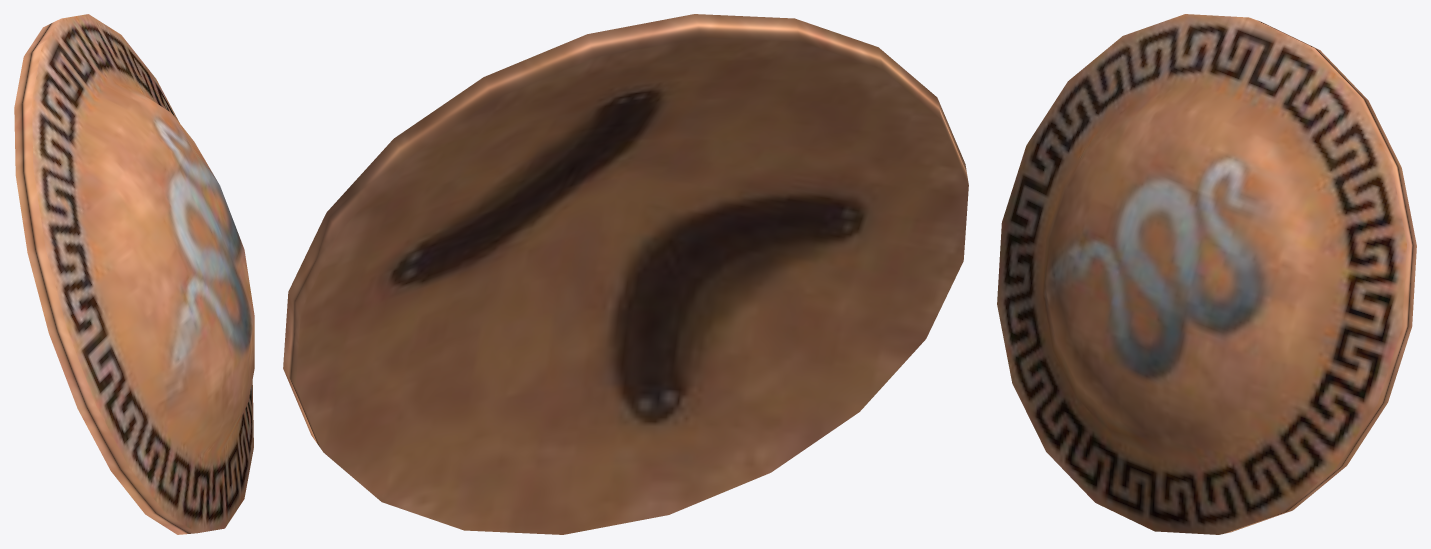
The model's file is rider-shield-slice-ironshields.glb.
The picture shows the model from 3 angles, left to right: view 1: azimuth 30°, elevation 25°; view 2: azimuth 150°, elevation 25°; view 3: azimuth 270°, elevation 25°; orthographic projection. The views are drawn at different scales.
Bounding box in the file's own units: 0.4107 × 0.522 × 0.4469.
Materials: 1 (1 with a texture image).
